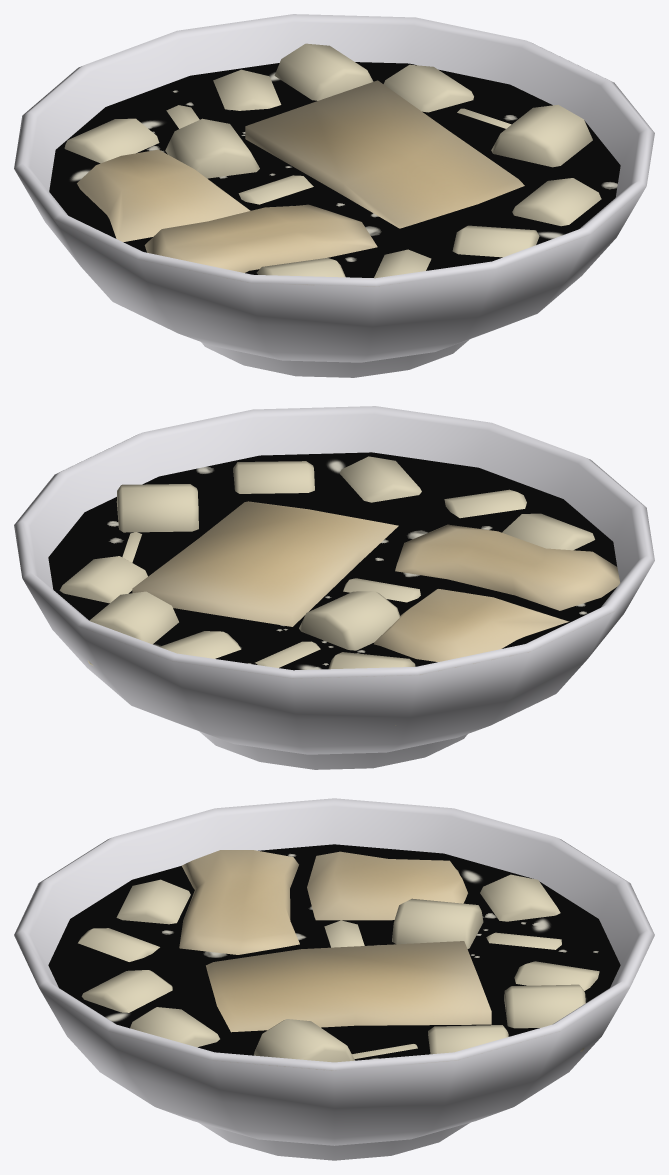
The model's file is Sweet_Dumplings.fbx.
The picture shows the model from 3 angles, top to bottom: view 1: azimuth 30°, elevation 25°; view 2: azimuth 150°, elevation 25°; view 3: azimuth 270°, elevation 25°; orthographic projection.
Parts seen in each view (by area): view 1: Sweet_Dumplings, 立方體.008, 立方體.020, 立方體.022, 立方體.021, 立方體.009, 立方體.016, 立方體.048, 立方體.010, 立方體.050, 立方體.017, 立方體.011 (+4 smaller); view 2: Sweet_Dumplings, 立方體.008, 立方體.020, 立方體.022, 立方體.021, 立方體.016, 立方體.009, 立方體.048, 立方體.050, 立方體.010, 立方體.011, 立方體.012 (+5 smaller); view 3: Sweet_Dumplings, 立方體.008, 立方體.020, 立方體.022, 立方體.021, 立方體.016, 立方體.009, 立方體.048, 立方體.017, 立方體.011, 立方體.012, 立方體.010 (+5 smaller).
Part boxes in pixels (x1=…): Sweet_Dumplings: x1=14, y1=14, x2=654, y2=377; 立方體.008: x1=49, y1=62, x2=620, y2=277; 立方體.020: x1=245, y1=80, x2=524, y2=228; 立方體.022: x1=144, y1=204, x2=377, y2=272; 立方體.021: x1=77, y1=149, x2=250, y2=242; 立方體.009: x1=491, y1=104, x2=592, y2=167; 立方體.016: x1=165, y1=118, x2=259, y2=178; 立方體.048: x1=274, y1=43, x2=373, y2=100; 立方體.010: x1=512, y1=178, x2=601, y2=226; 立方體.050: x1=383, y1=64, x2=473, y2=112; 立方體.017: x1=64, y1=118, x2=159, y2=163; 立方體.011: x1=452, y1=225, x2=539, y2=257; Sweet_Dumplings: x1=14, y1=406, x2=654, y2=769; 立方體.008: x1=48, y1=452, x2=617, y2=670; 立方體.020: x1=132, y1=501, x2=398, y2=626; 立方體.022: x1=395, y1=524, x2=620, y2=610; 立方體.021: x1=374, y1=589, x2=569, y2=661; 立方體.016: x1=299, y1=591, x2=400, y2=650; 立方體.009: x1=116, y1=484, x2=198, y2=532; 立方體.048: x1=87, y1=591, x2=178, y2=665; 立方體.050: x1=59, y1=556, x2=147, y2=603; 立方體.010: x1=233, y1=461, x2=314, y2=493; 立方體.011: x1=339, y1=456, x2=421, y2=502; 立方體.012: x1=502, y1=513, x2=594, y2=550; Sweet_Dumplings: x1=14, y1=798, x2=654, y2=1160; 立方體.008: x1=48, y1=844, x2=620, y2=1060; 立方體.020: x1=206, y1=941, x2=491, y2=1032; 立方體.022: x1=179, y1=850, x2=299, y2=954; 立方體.021: x1=307, y1=851, x2=467, y2=920; 立方體.016: x1=392, y1=898, x2=483, y2=948; 立方體.009: x1=254, y1=1019, x2=354, y2=1062; 立方體.048: x1=504, y1=984, x2=585, y2=1051; 立方體.017: x1=480, y1=874, x2=560, y2=921; 立方體.011: x1=81, y1=970, x2=172, y2=1012; 立方體.012: x1=116, y1=879, x2=190, y2=924; 立方體.010: x1=130, y1=1007, x2=219, y2=1047.
Bounding box in the file's own units: 4.99 × 4.99 × 1.44.
